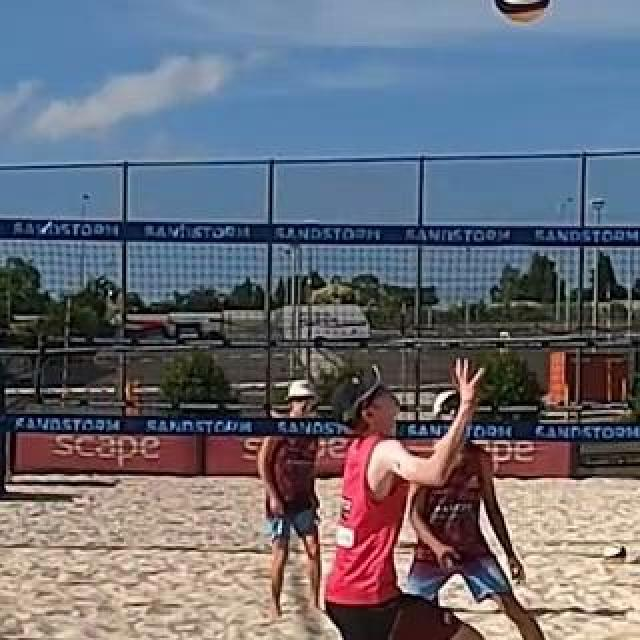volleyball: (493, 0, 551, 24), (604, 544, 626, 568)
